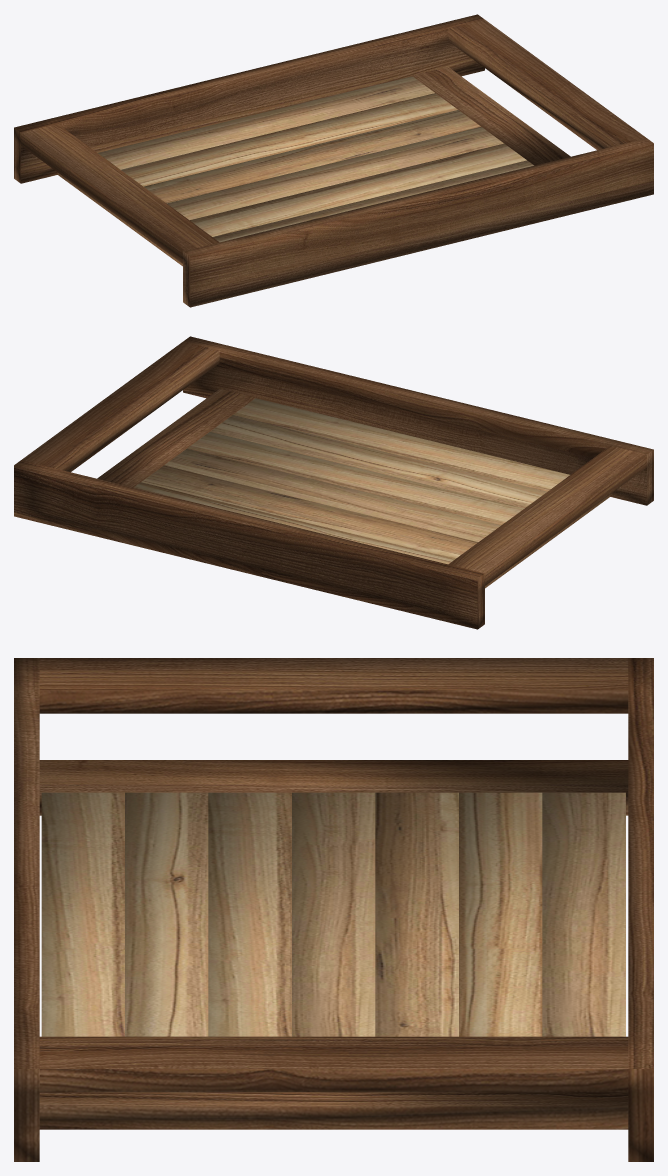
The model's file is wooden-serving-tray-web.glb.
The picture shows the model from 3 angles, top to bottom: view 1: azimuth 30°, elevation 25°; view 2: azimuth 150°, elevation 25°; view 3: azimuth 270°, elevation 25°; orthographic projection. The views are drawn at different scales.
Parts seen in each view (by area): view 1: Wooden Serving Tray 38x25x4, Plane.001; view 2: Wooden Serving Tray 38x25x4, Plane.001; view 3: Plane.001, Wooden Serving Tray 38x25x4.
Boxes of the visible parts, left/top/right/bottom form: Wooden Serving Tray 38x25x4: left=14, top=14, right=653, bottom=307; Plane.001: left=98, top=76, right=533, bottom=242; Wooden Serving Tray 38x25x4: left=14, top=336, right=653, bottom=629; Plane.001: left=134, top=398, right=569, bottom=564; Plane.001: left=41, top=792, right=625, bottom=1036; Wooden Serving Tray 38x25x4: left=14, top=658, right=653, bottom=1161.
Bounding box in the file's own units: 0.38 × 0.04 × 0.25.
2 materials, 2 textured.
